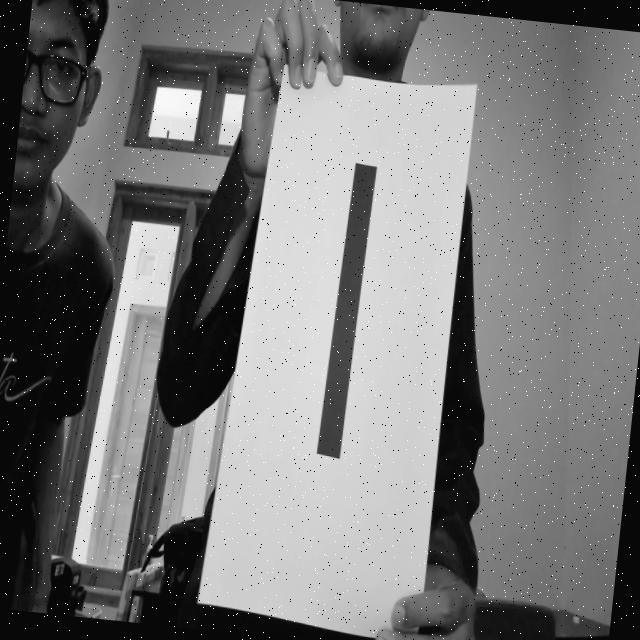i: (291, 135, 387, 484)
